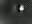person: (19, 6, 26, 15)
